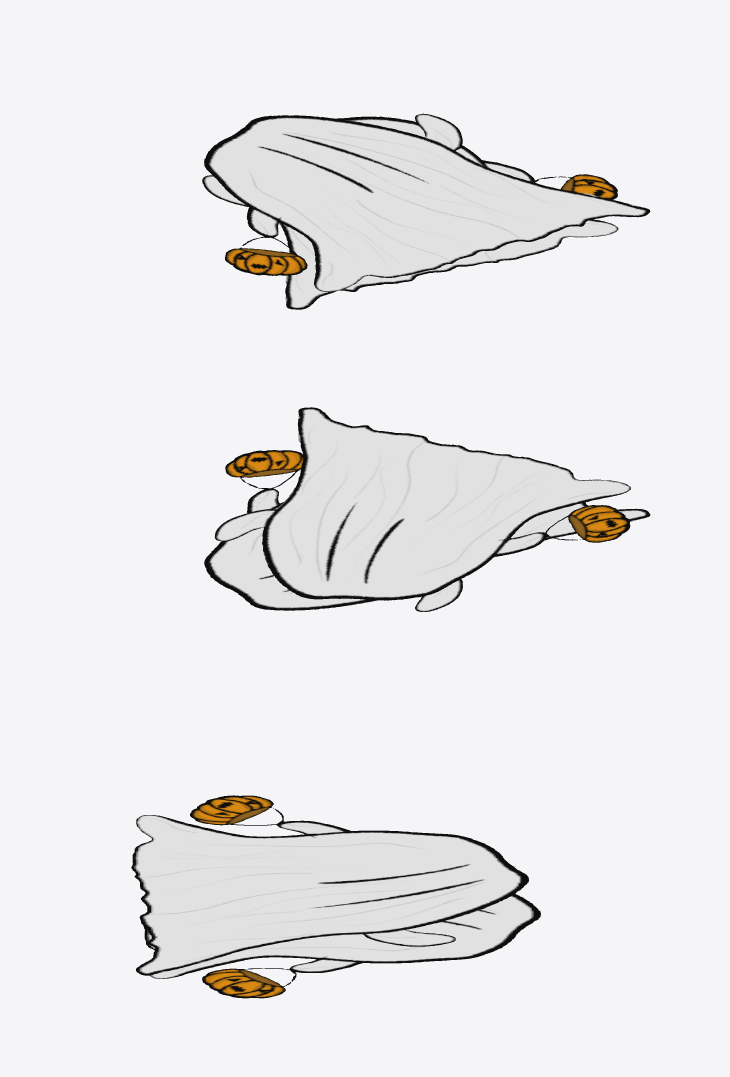
File: happyHalloween.obj
3 views of the same model, one above another, from view 1: azimuth 30°, elevation 25°; view 2: azimuth 150°, elevation 25°; view 3: azimuth 270°, elevation 25° (orthographic).
Parts seen in each view (by area): view 1: Cylinder; view 2: Cylinder; view 3: Cylinder.
Part boxes in pixels (box(x1,y1,x2,y2)): Cylinder: box(202, 113, 650, 309); Cylinder: box(204, 407, 650, 611); Cylinder: box(131, 795, 540, 998).
Bounding box in the file's own units: 8.1 × 0.4326 × 8.15.
